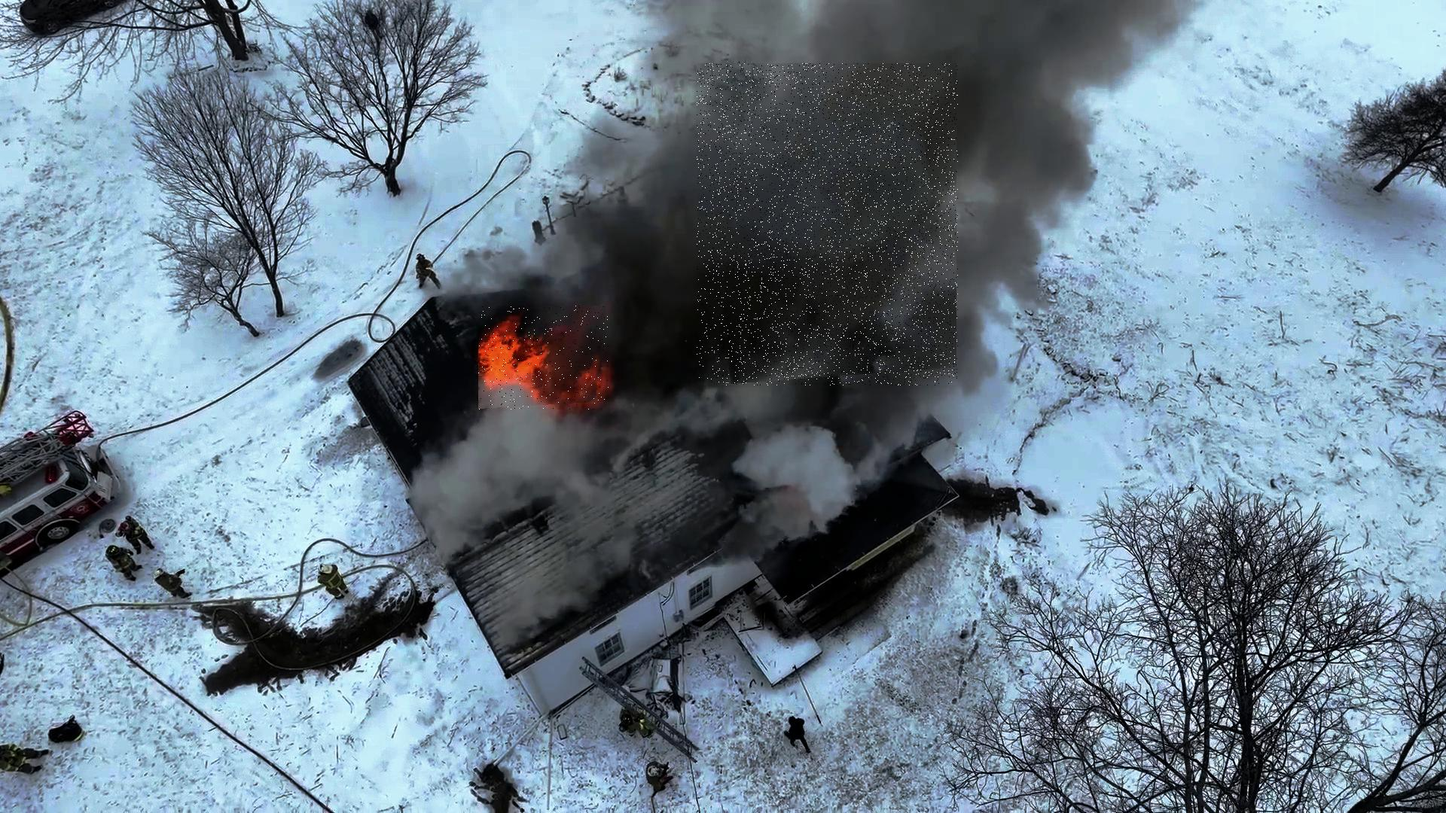fire: (479, 306, 609, 410)
smoke: (697, 64, 959, 386)
